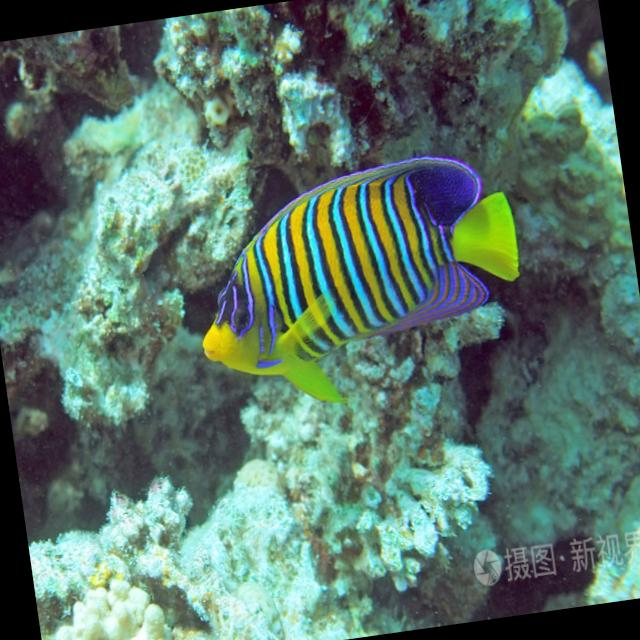AngelFish: (185, 153, 532, 404)
